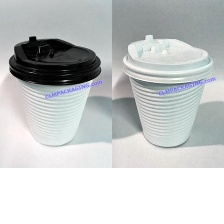paper_cup: (2, 31, 106, 151), (117, 31, 218, 151)
